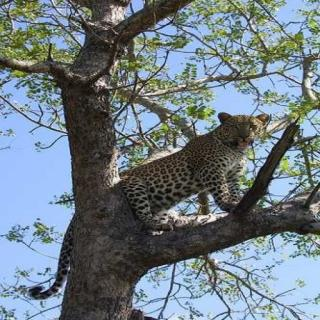Leopard: (99, 104, 272, 225)
